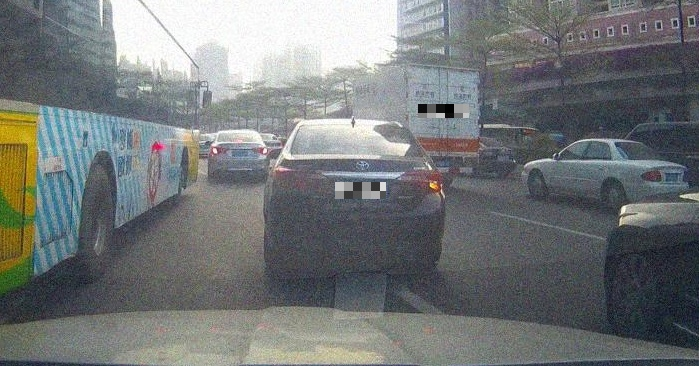L_light: (273, 168, 322, 193), (640, 170, 661, 182), (210, 147, 224, 154)
R_light: (393, 169, 442, 194), (253, 147, 268, 154), (682, 170, 688, 182)
T_light: (348, 149, 374, 155), (626, 142, 635, 146), (234, 140, 244, 143)
day-brake: (209, 130, 268, 182)
day-no: (614, 139, 689, 214)
day-right: (271, 118, 445, 278)
plate_1: (335, 182, 386, 199)
plate_2: (418, 104, 469, 118)
